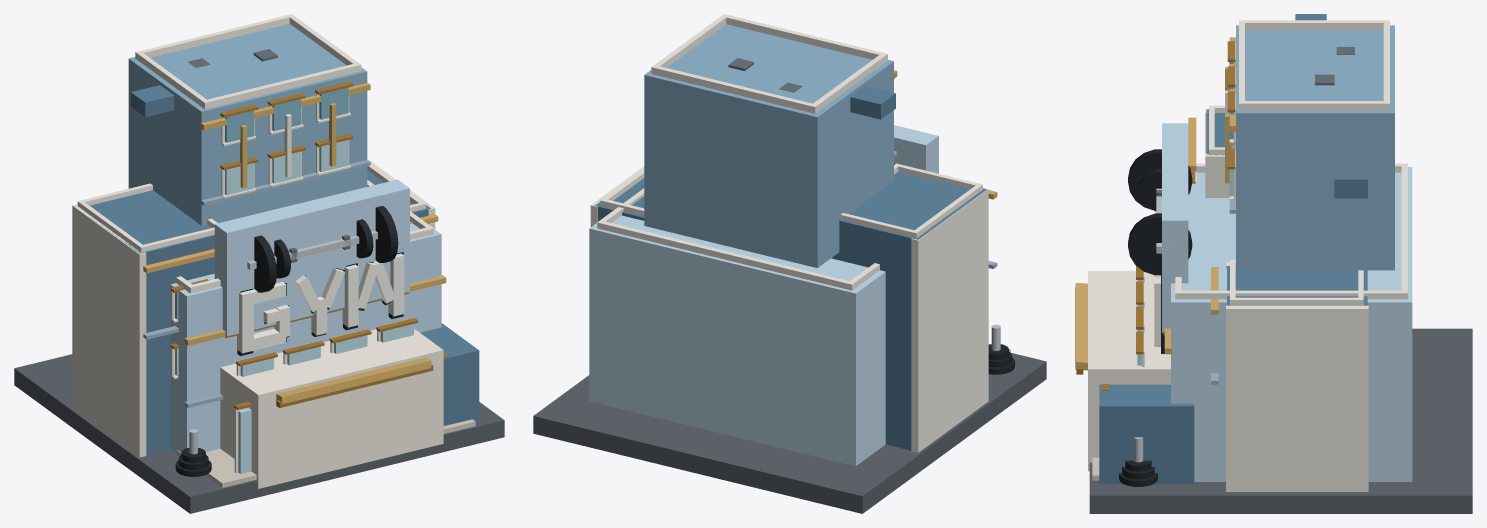
File: gym-building.glb
3 views of the same model, side by side, from view 1: azimuth 30°, elevation 25°; view 2: azimuth 150°, elevation 25°; view 3: azimuth 270°, elevation 25° (orthographic). The views are drawn at different scales.
Visible parts, largest first — view 1: gym_building; view 2: gym_building; view 3: gym_building.
Boxes of the visible parts, bbox=[...] form: gym_building: bbox=[14, 14, 504, 513]; gym_building: bbox=[533, 14, 1046, 513]; gym_building: bbox=[1075, 14, 1472, 513].
Size of the model in its own units: 11.3 by 11.69 by 11.36.
